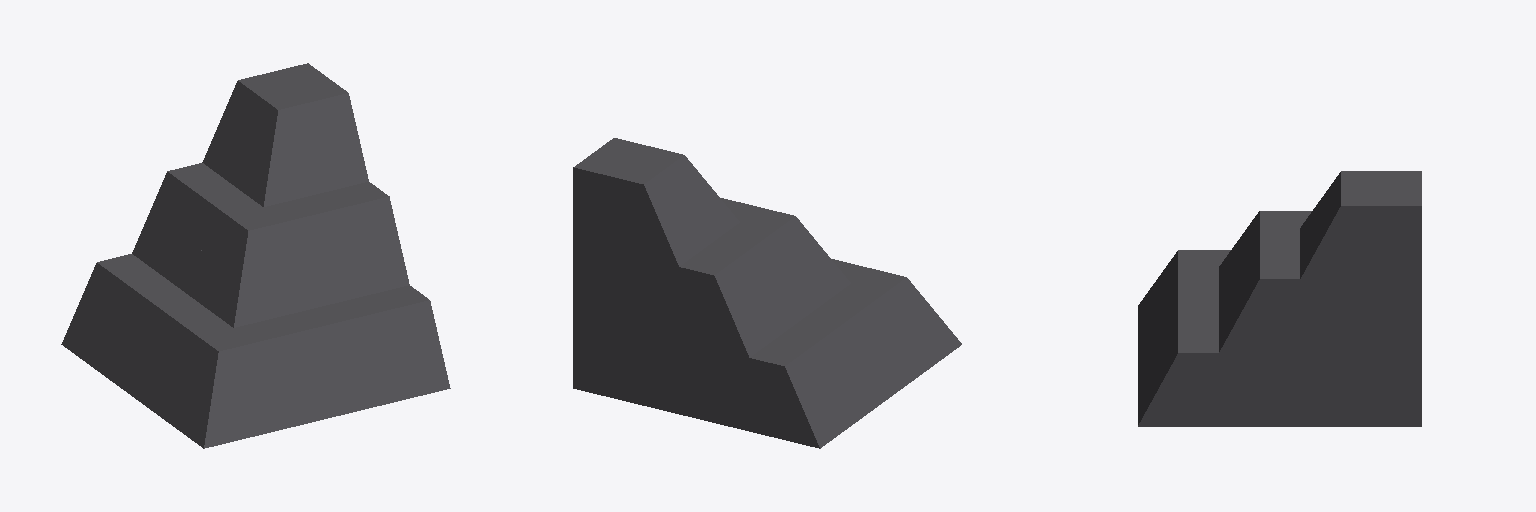
File: terrain.obj
3 views of the same model, side by side, from view 1: azimuth 30°, elevation 25°; view 2: azimuth 150°, elevation 25°; view 3: azimuth 270°, elevation 25° (orthographic).
Visible parts, largest first — view 1: Union1; view 2: Union1; view 3: Union1.
Boxes of the visible parts, <box> form: Union1: <box>61,63,450,448</box>; Union1: <box>573,138,961,448</box>; Union1: <box>1138,171,1421,426</box>.
Bounding box in the file's own units: 14 × 12 × 14.